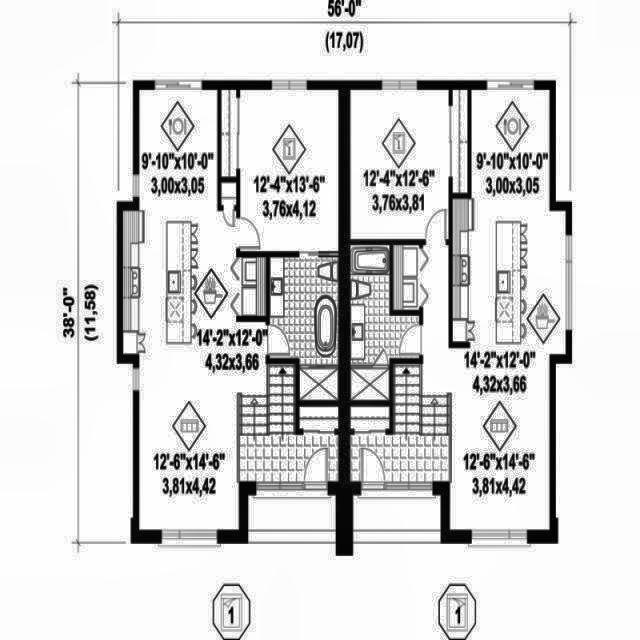room: (420, 89, 568, 529), (138, 90, 266, 528), (221, 91, 339, 251), (350, 90, 468, 240), (350, 365, 449, 480), (240, 364, 338, 480), (350, 244, 420, 400), (269, 256, 338, 400), (394, 246, 418, 309), (243, 258, 266, 316)
